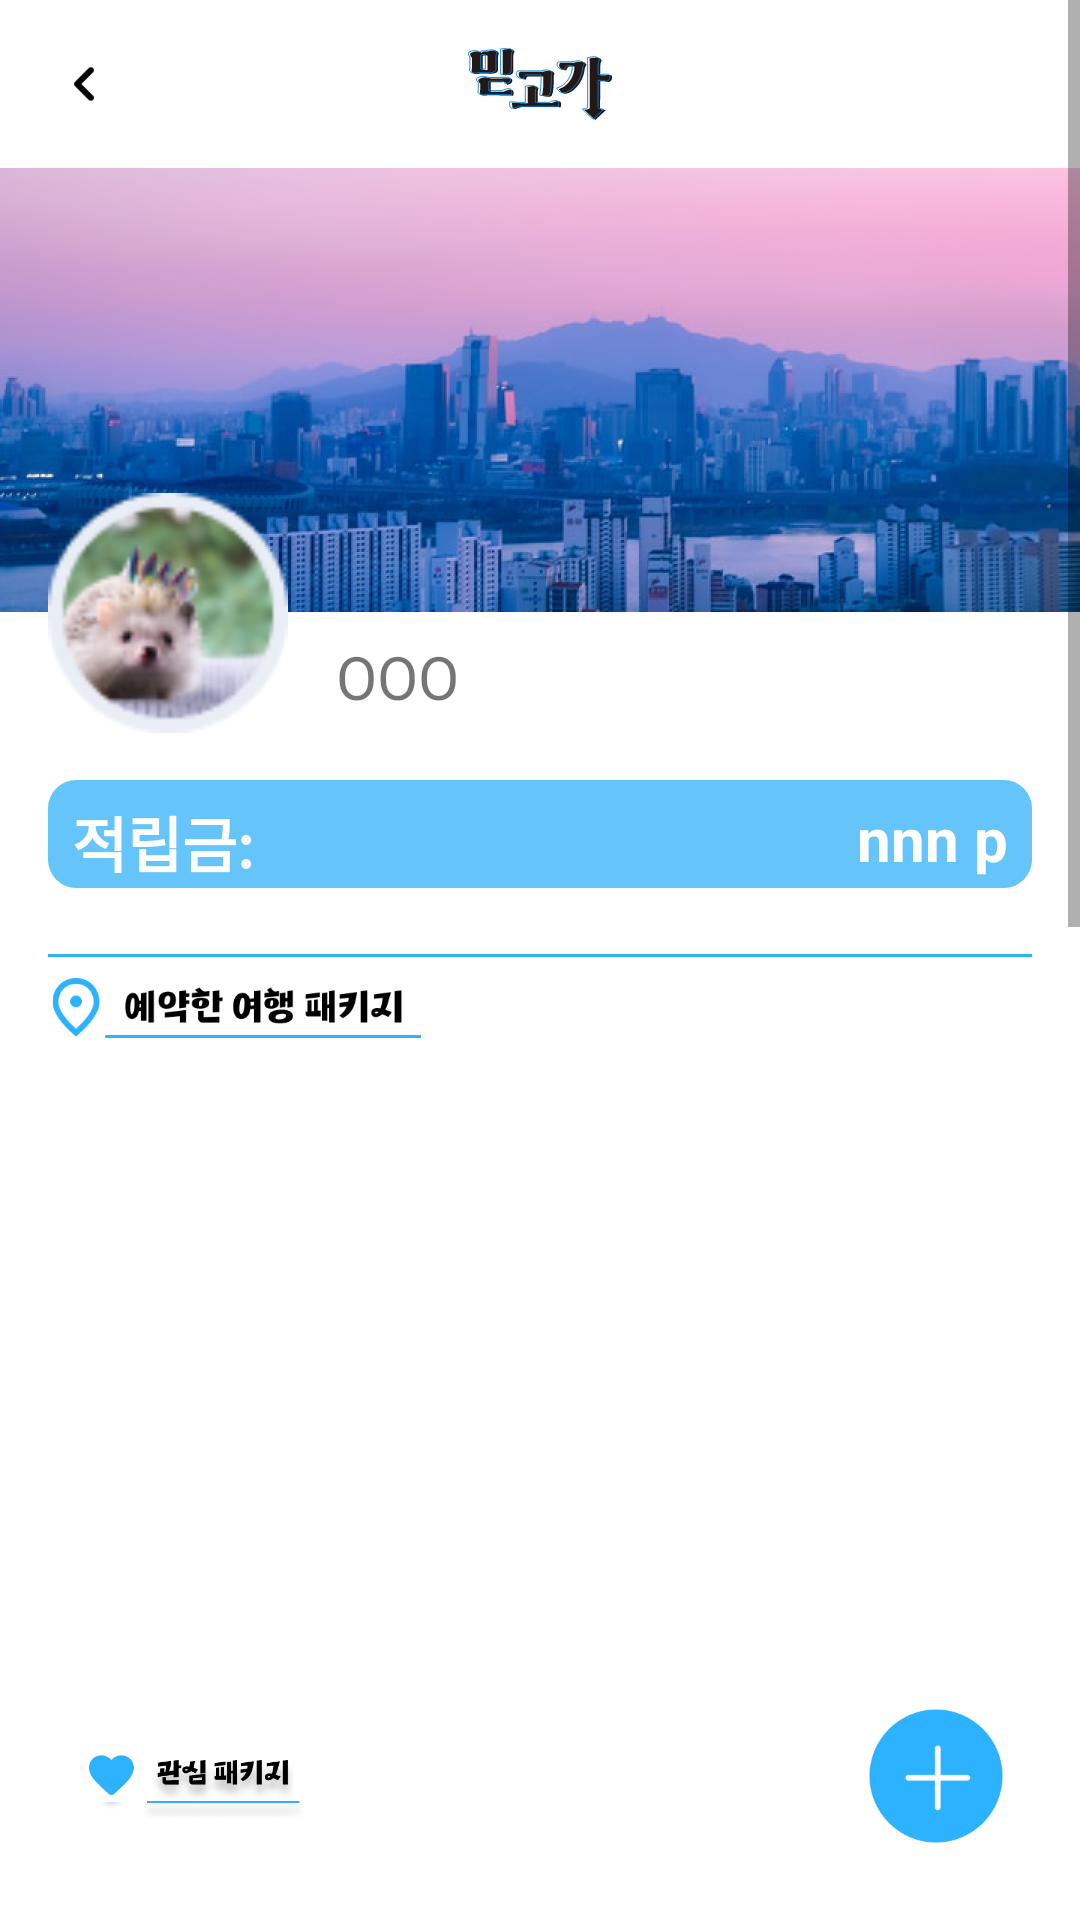

Named icons in this screenshot (1080w x 1920h) and their centers, point (x, y):
add: point (936, 1776)
back: point (84, 84)
profil: point (168, 613)
